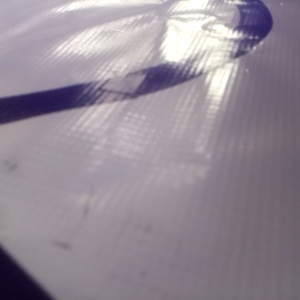bottom_left: (237, 115, 300, 219)
